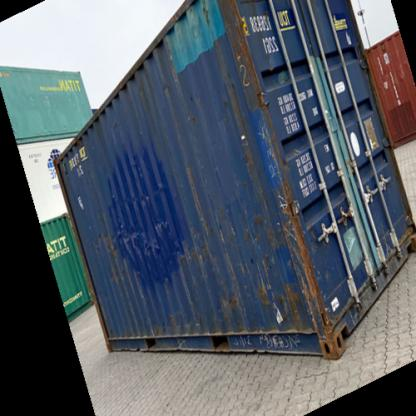Damage: (270, 188, 332, 340), (178, 156, 222, 261), (104, 214, 175, 260), (226, 12, 262, 91), (148, 313, 206, 337), (156, 73, 188, 98), (216, 290, 246, 315), (124, 150, 148, 180)
